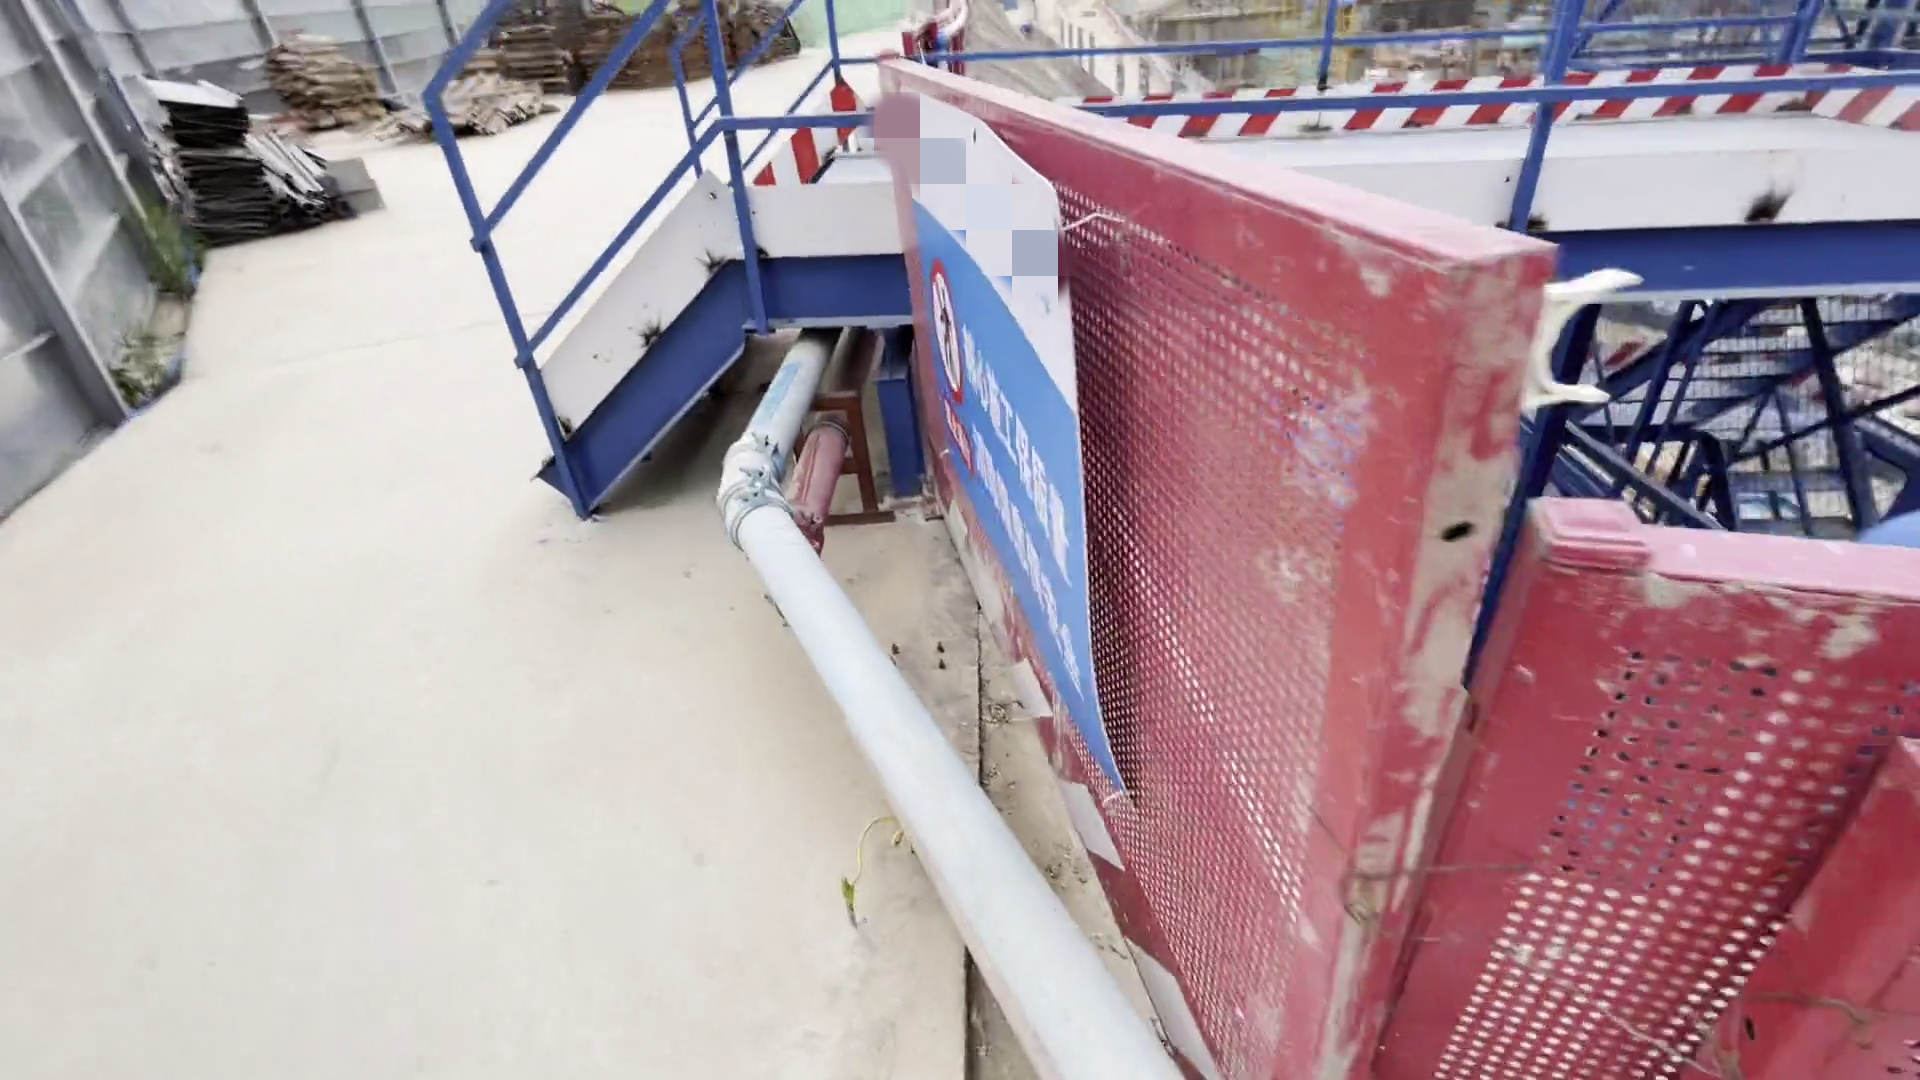fence: (865, 28, 1882, 1080)
slogan: (890, 95, 1143, 841)
wood: (425, 78, 560, 142)
